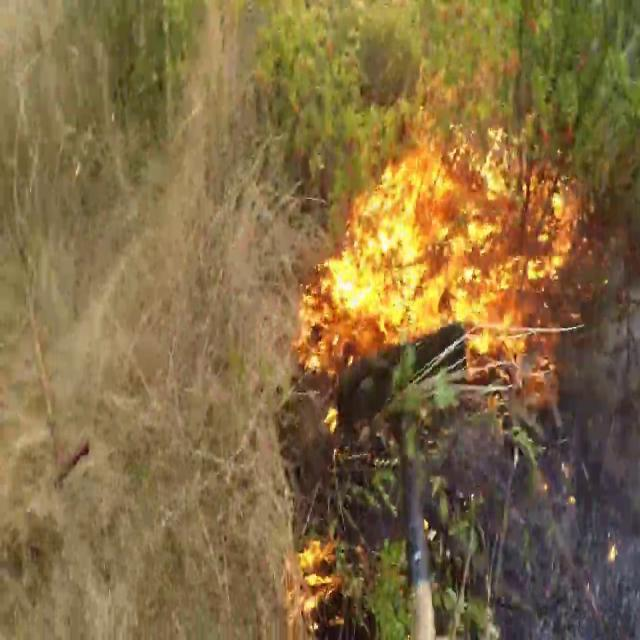Fire: (286, 125, 590, 415)
